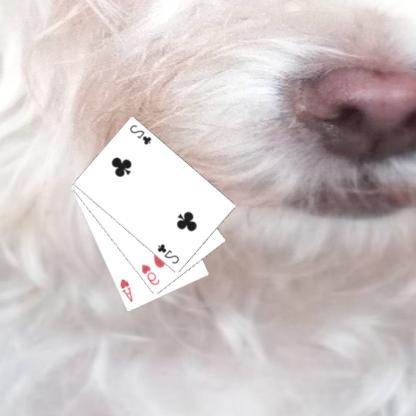2C: (156, 241, 182, 265), (129, 122, 155, 146)
6H: (140, 262, 163, 286)
AH: (119, 276, 136, 304)
